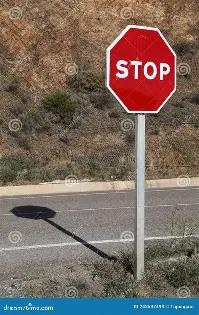Stop: (106, 26, 177, 113)
